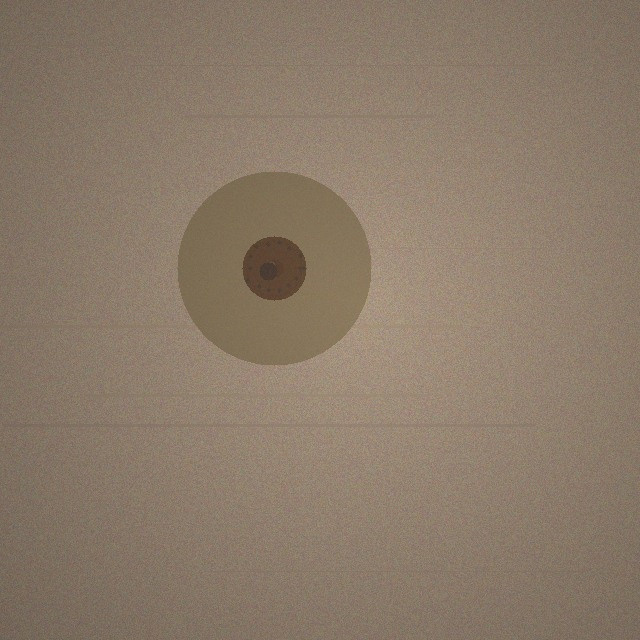cold_weld: (177, 171, 371, 365)
